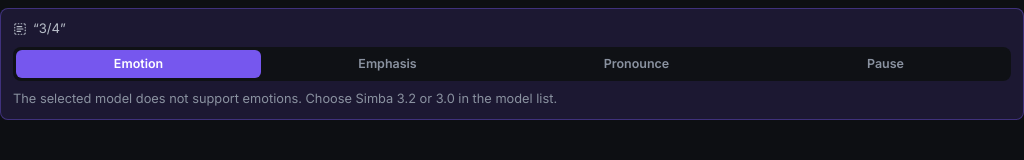
SelectionToolbar › emphasis tab › explains when the model has no emphasis
The width and height of the screenshot is (1024, 160).
Click the tab "Emphasis" at {"x": 388, "y": 64}, box [265,50,510,78]
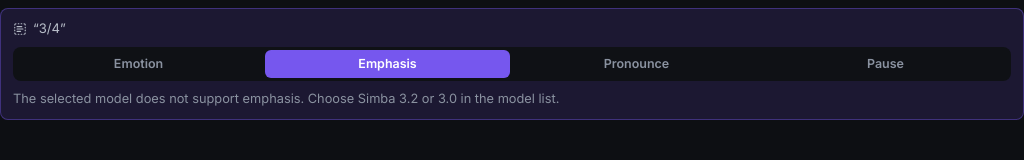
Check: the text "does not support emphasis" is shown, box [13,91,559,106]
